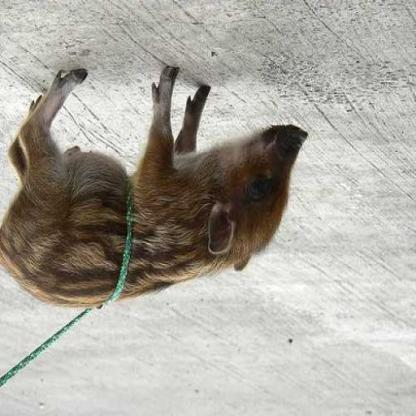boar: (0, 38, 341, 336)
